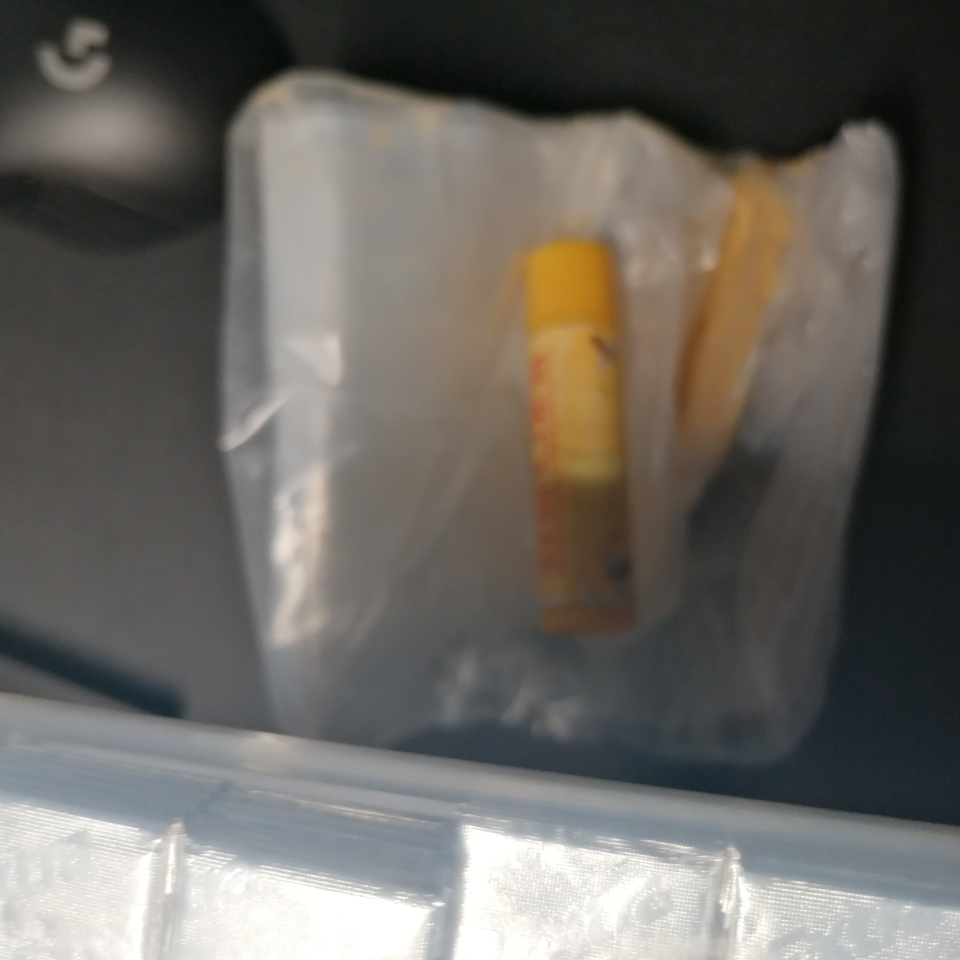chapstick: (524, 240, 638, 640)
